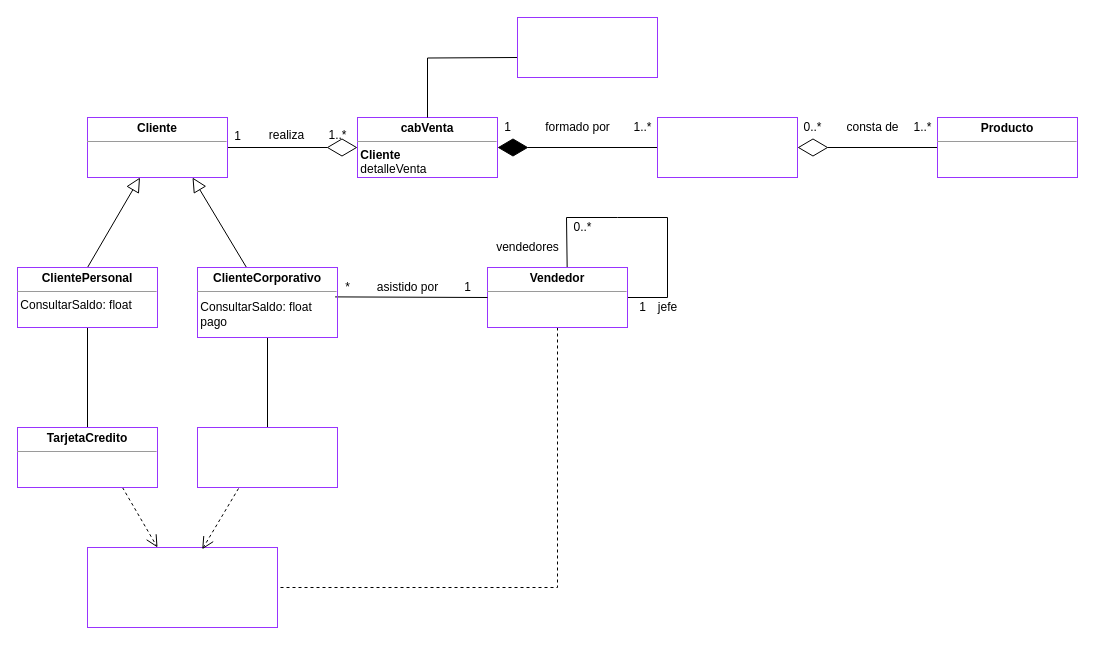
Image size: 1095x645. Some labels were removed from this diagram. Here are the shapes that lost their labels. From the top down, the centre of each, then its label:
At [587,47]: "Empresa".
At [727,147]: "detVenta".
At [267,457]: "Crontrato +LineaCredito: int".
At [182,587]: "<<Interface>> SistemaPago +ConsultaSaldo():float".
